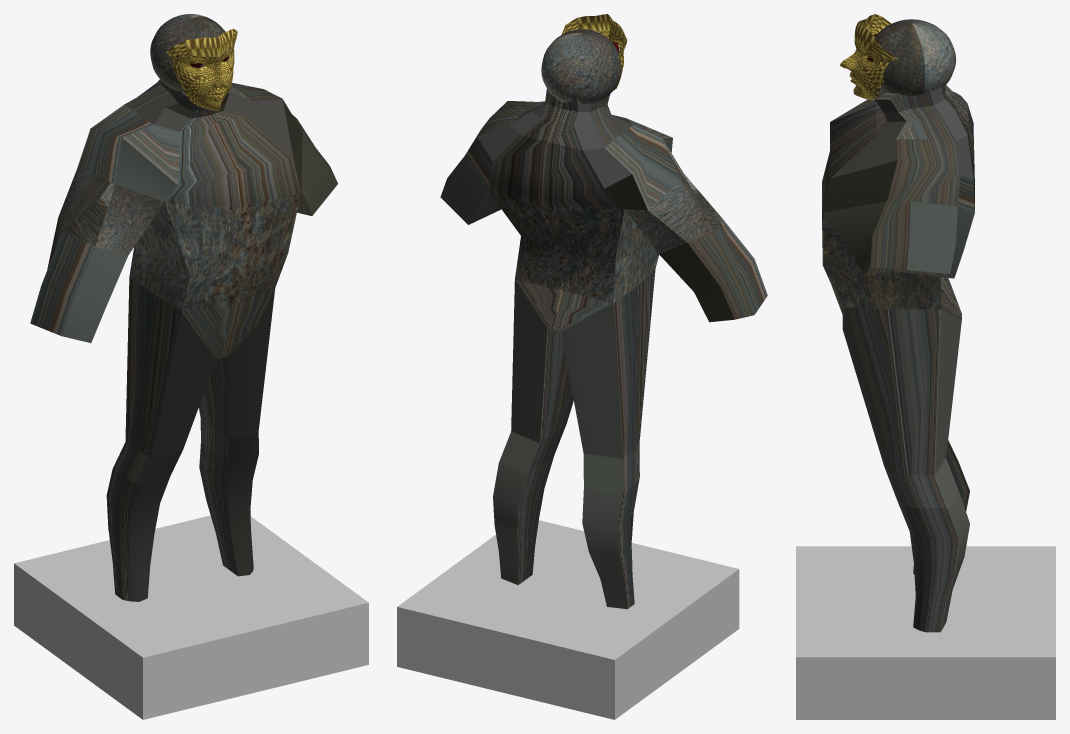
The model's file is Statue.fbx.
3 renders of one model, left to right at view 1: azimuth 30°, elevation 25°; view 2: azimuth 150°, elevation 25°; view 3: azimuth 270°, elevation 25°, orthographic. The views are drawn at different scales.
Visible parts, largest first — view 1: pPlane7; view 2: pPlane7; view 3: pPlane7.
Boxes of the visible parts, x1,y1,x2,y2 form: pPlane7: [14, 14, 368, 719]; pPlane7: [397, 14, 767, 719]; pPlane7: [796, 14, 1055, 719].
Bounding box in the file's own units: 9.16 × 18.15 × 6.69.
